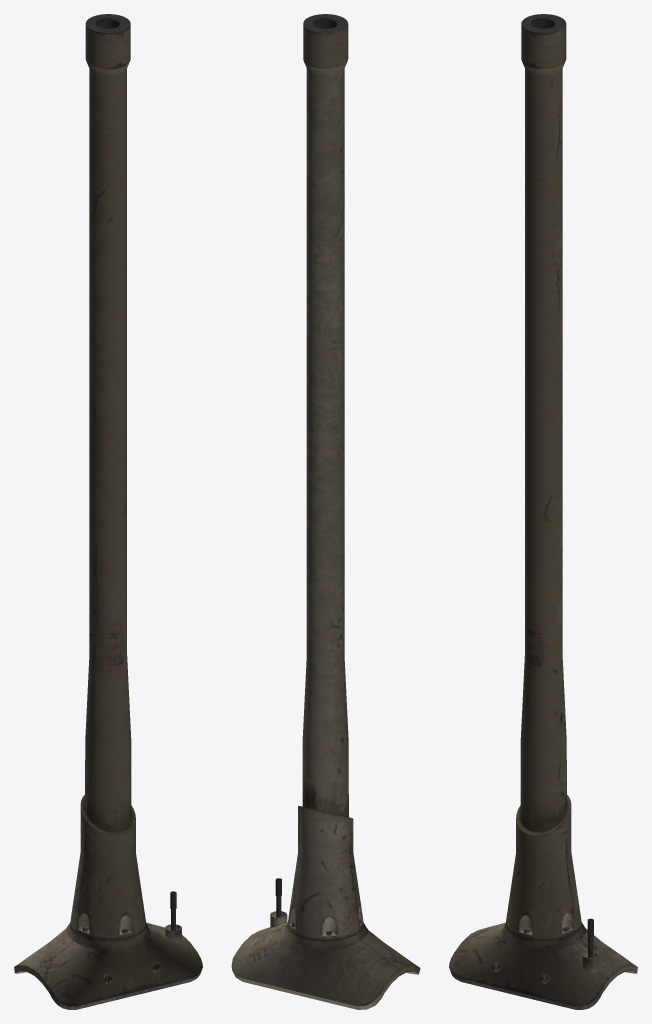
Rendered from Gun_01.glb.
3 renders of one model, left to right at view 1: azimuth 30°, elevation 25°; view 2: azimuth 150°, elevation 25°; view 3: azimuth 330°, elevation 25°, orthographic.
Parts seen in each view (by area): view 1: set_0_group_0; view 2: set_0_group_0; view 3: set_0_group_0.
Part boxes in pixels (x1,y1,x2,y2): set_0_group_0: (14, 14, 202, 1009); set_0_group_0: (231, 14, 420, 1009); set_0_group_0: (449, 14, 637, 1009).
Size of the model in its own units: 0.9201 by 5.69 by 0.5764.
1 material, 1 textured.
